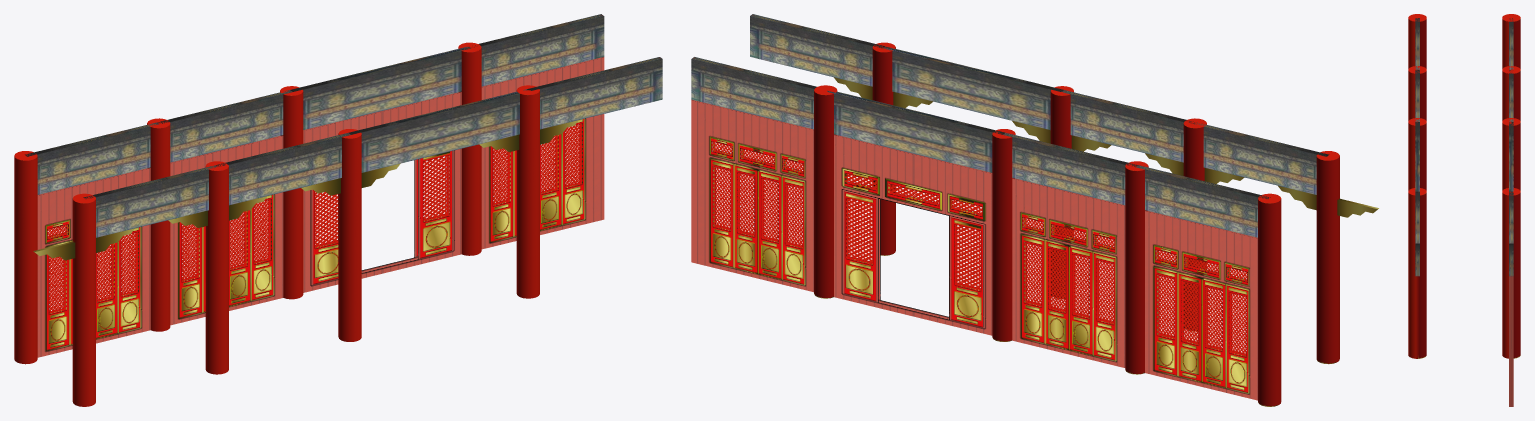
Rendered from colwallwalldoorwall.dae.
3 views of the same model, side by side, from view 1: azimuth 30°, elevation 25°; view 2: azimuth 150°, elevation 25°; view 3: azimuth 270°, elevation 25° (orthographic). The views are drawn at different scales.
Visible parts, largest first — view 1: MainNode; view 2: MainNode; view 3: MainNode.
Boxes of the visible parts, bbox=[...] form: MainNode: bbox=[14, 14, 662, 406]; MainNode: bbox=[691, 14, 1378, 406]; MainNode: bbox=[1408, 14, 1520, 406].
Bounding box in the file's own units: 15.49 × 4.8 × 2.99.
1 material, 1 textured.
